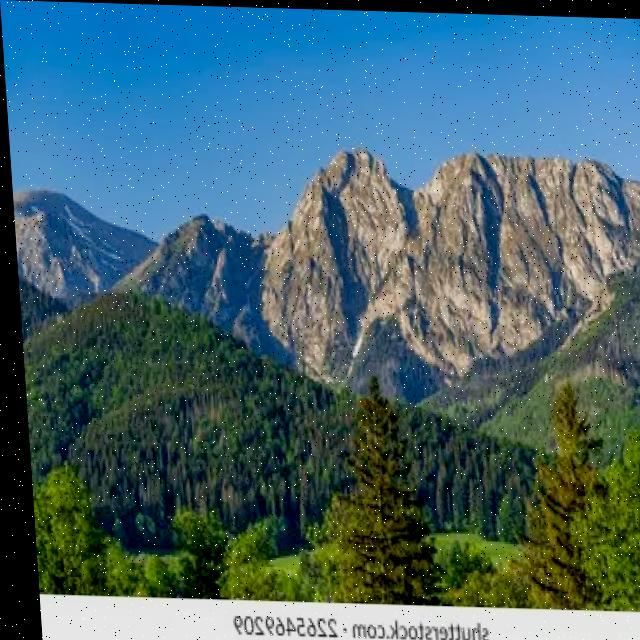Giewont: (274, 65, 433, 242)
Malolaczniak: (9, 138, 85, 243)
Maly giewont: (135, 155, 272, 275)
